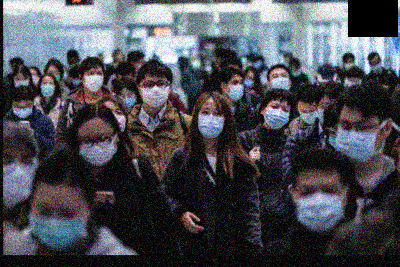with_mask: (29, 198, 88, 252), (296, 180, 345, 233), (336, 116, 381, 162), (2, 150, 35, 207), (79, 130, 116, 167), (197, 106, 225, 138), (140, 77, 167, 109), (263, 101, 289, 129), (83, 69, 103, 94), (226, 77, 244, 102), (271, 71, 290, 91), (297, 107, 317, 125), (12, 101, 31, 119), (119, 91, 136, 110), (38, 80, 54, 99), (13, 77, 28, 89), (244, 74, 256, 87)
